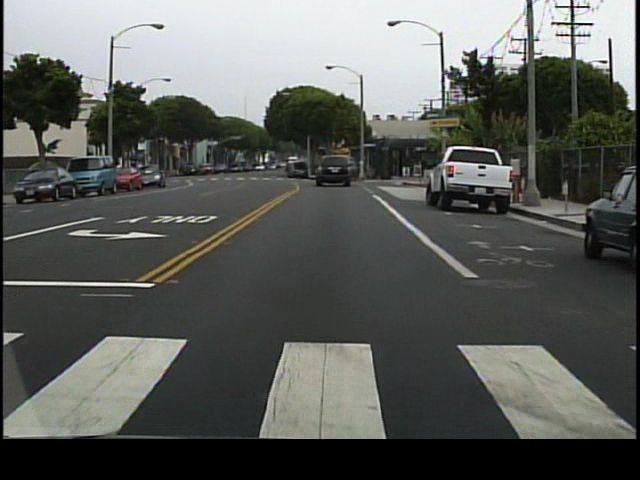car: (430, 140, 511, 216), (17, 161, 76, 198), (71, 152, 116, 195), (314, 153, 355, 187), (116, 163, 139, 191), (142, 165, 161, 186)
striscie pedonali: (4, 332, 635, 439)
